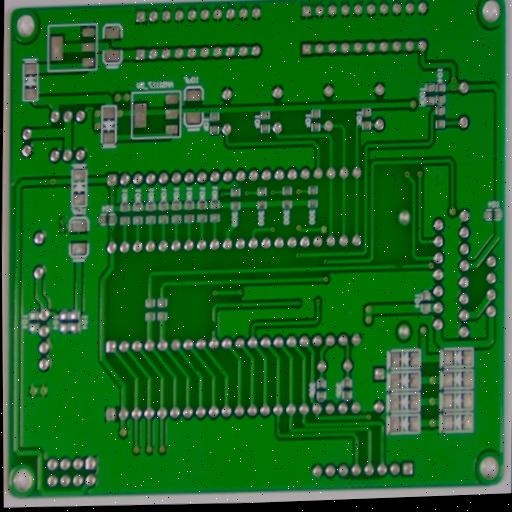mouse_bite: (207, 317, 219, 334), (390, 260, 407, 272), (107, 226, 119, 243), (274, 417, 285, 434), (189, 361, 201, 373)
